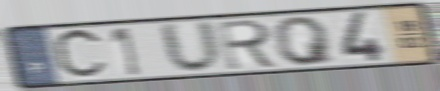1: (109, 26, 144, 77)
4: (339, 10, 388, 65)
C: (50, 26, 111, 83)
Q: (271, 14, 338, 67)
R: (215, 18, 281, 72)
U: (156, 18, 225, 75)
